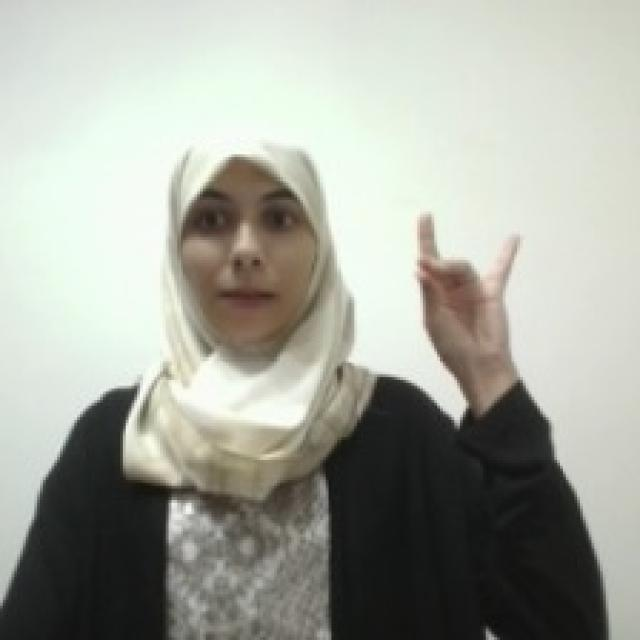Dog: (411, 203, 528, 362)
